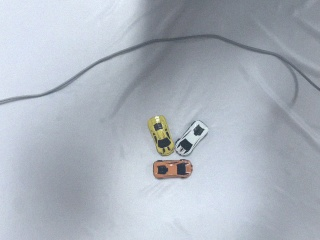toy_car: (148, 116, 208, 179), (175, 120, 208, 156), (148, 116, 174, 156), (153, 160, 192, 179)
